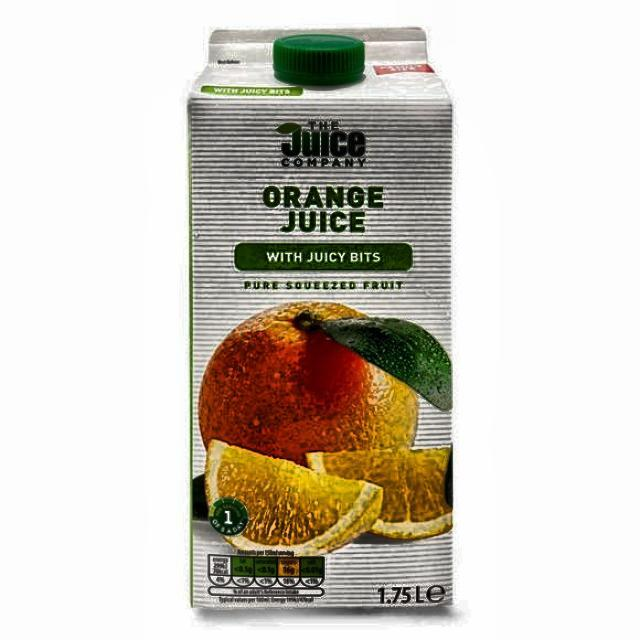cardboard: (186, 25, 454, 608)
